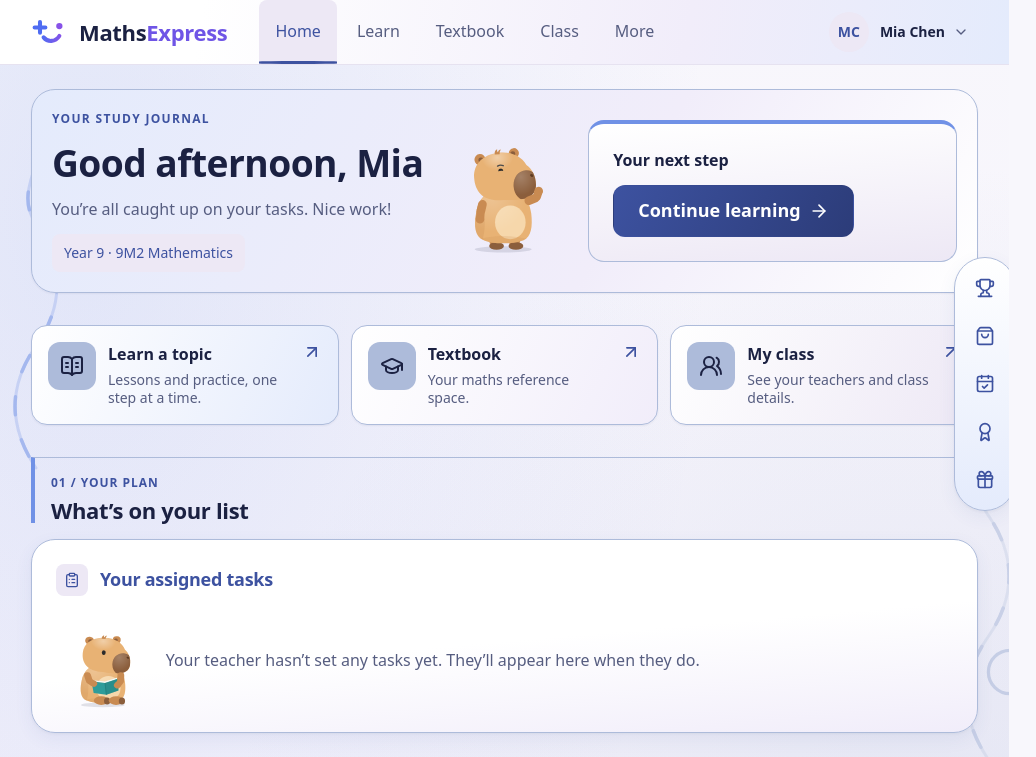
Test: errors › opens pages that don’t show classes even when loading the classes fails
Expected: the heading "Good afternoon, Mia" is shown, [52,141,423,185]
Step 1. Click the link "Textbook" → [470, 32], box [420,0,520,64]
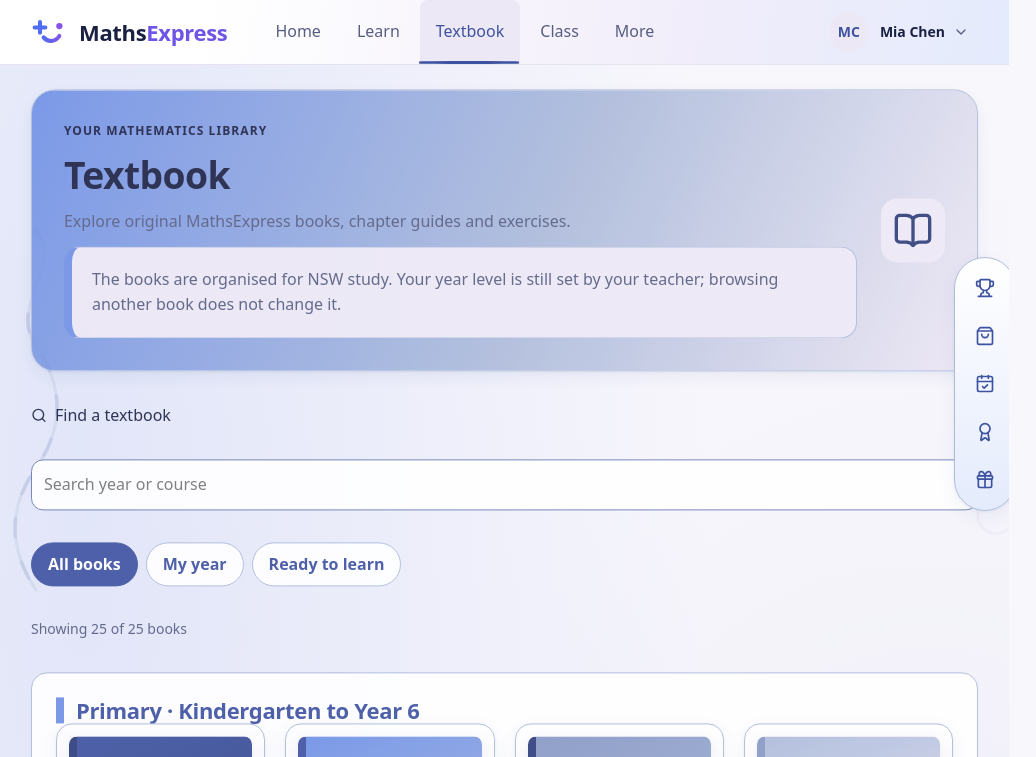
Expected: the navigation bar named "Student" is shown, [259,0,670,64]
Expected: the heading "Textbook" is shown, [64,149,230,200]
